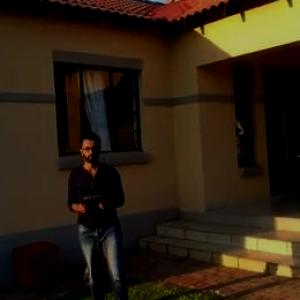follow: (62, 124, 134, 298)
